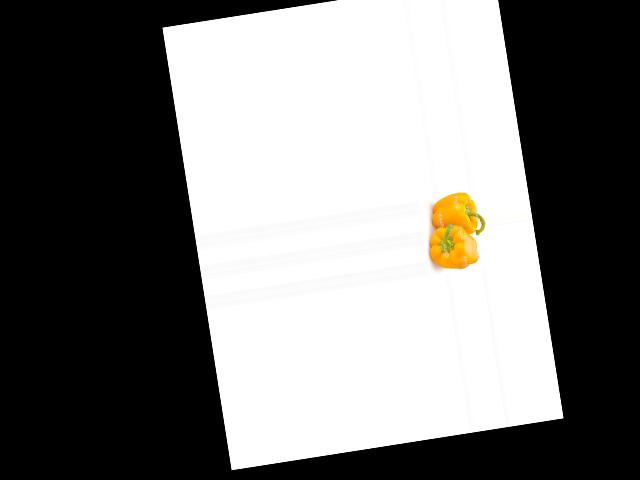bell_pepper: (427, 188, 485, 243)
